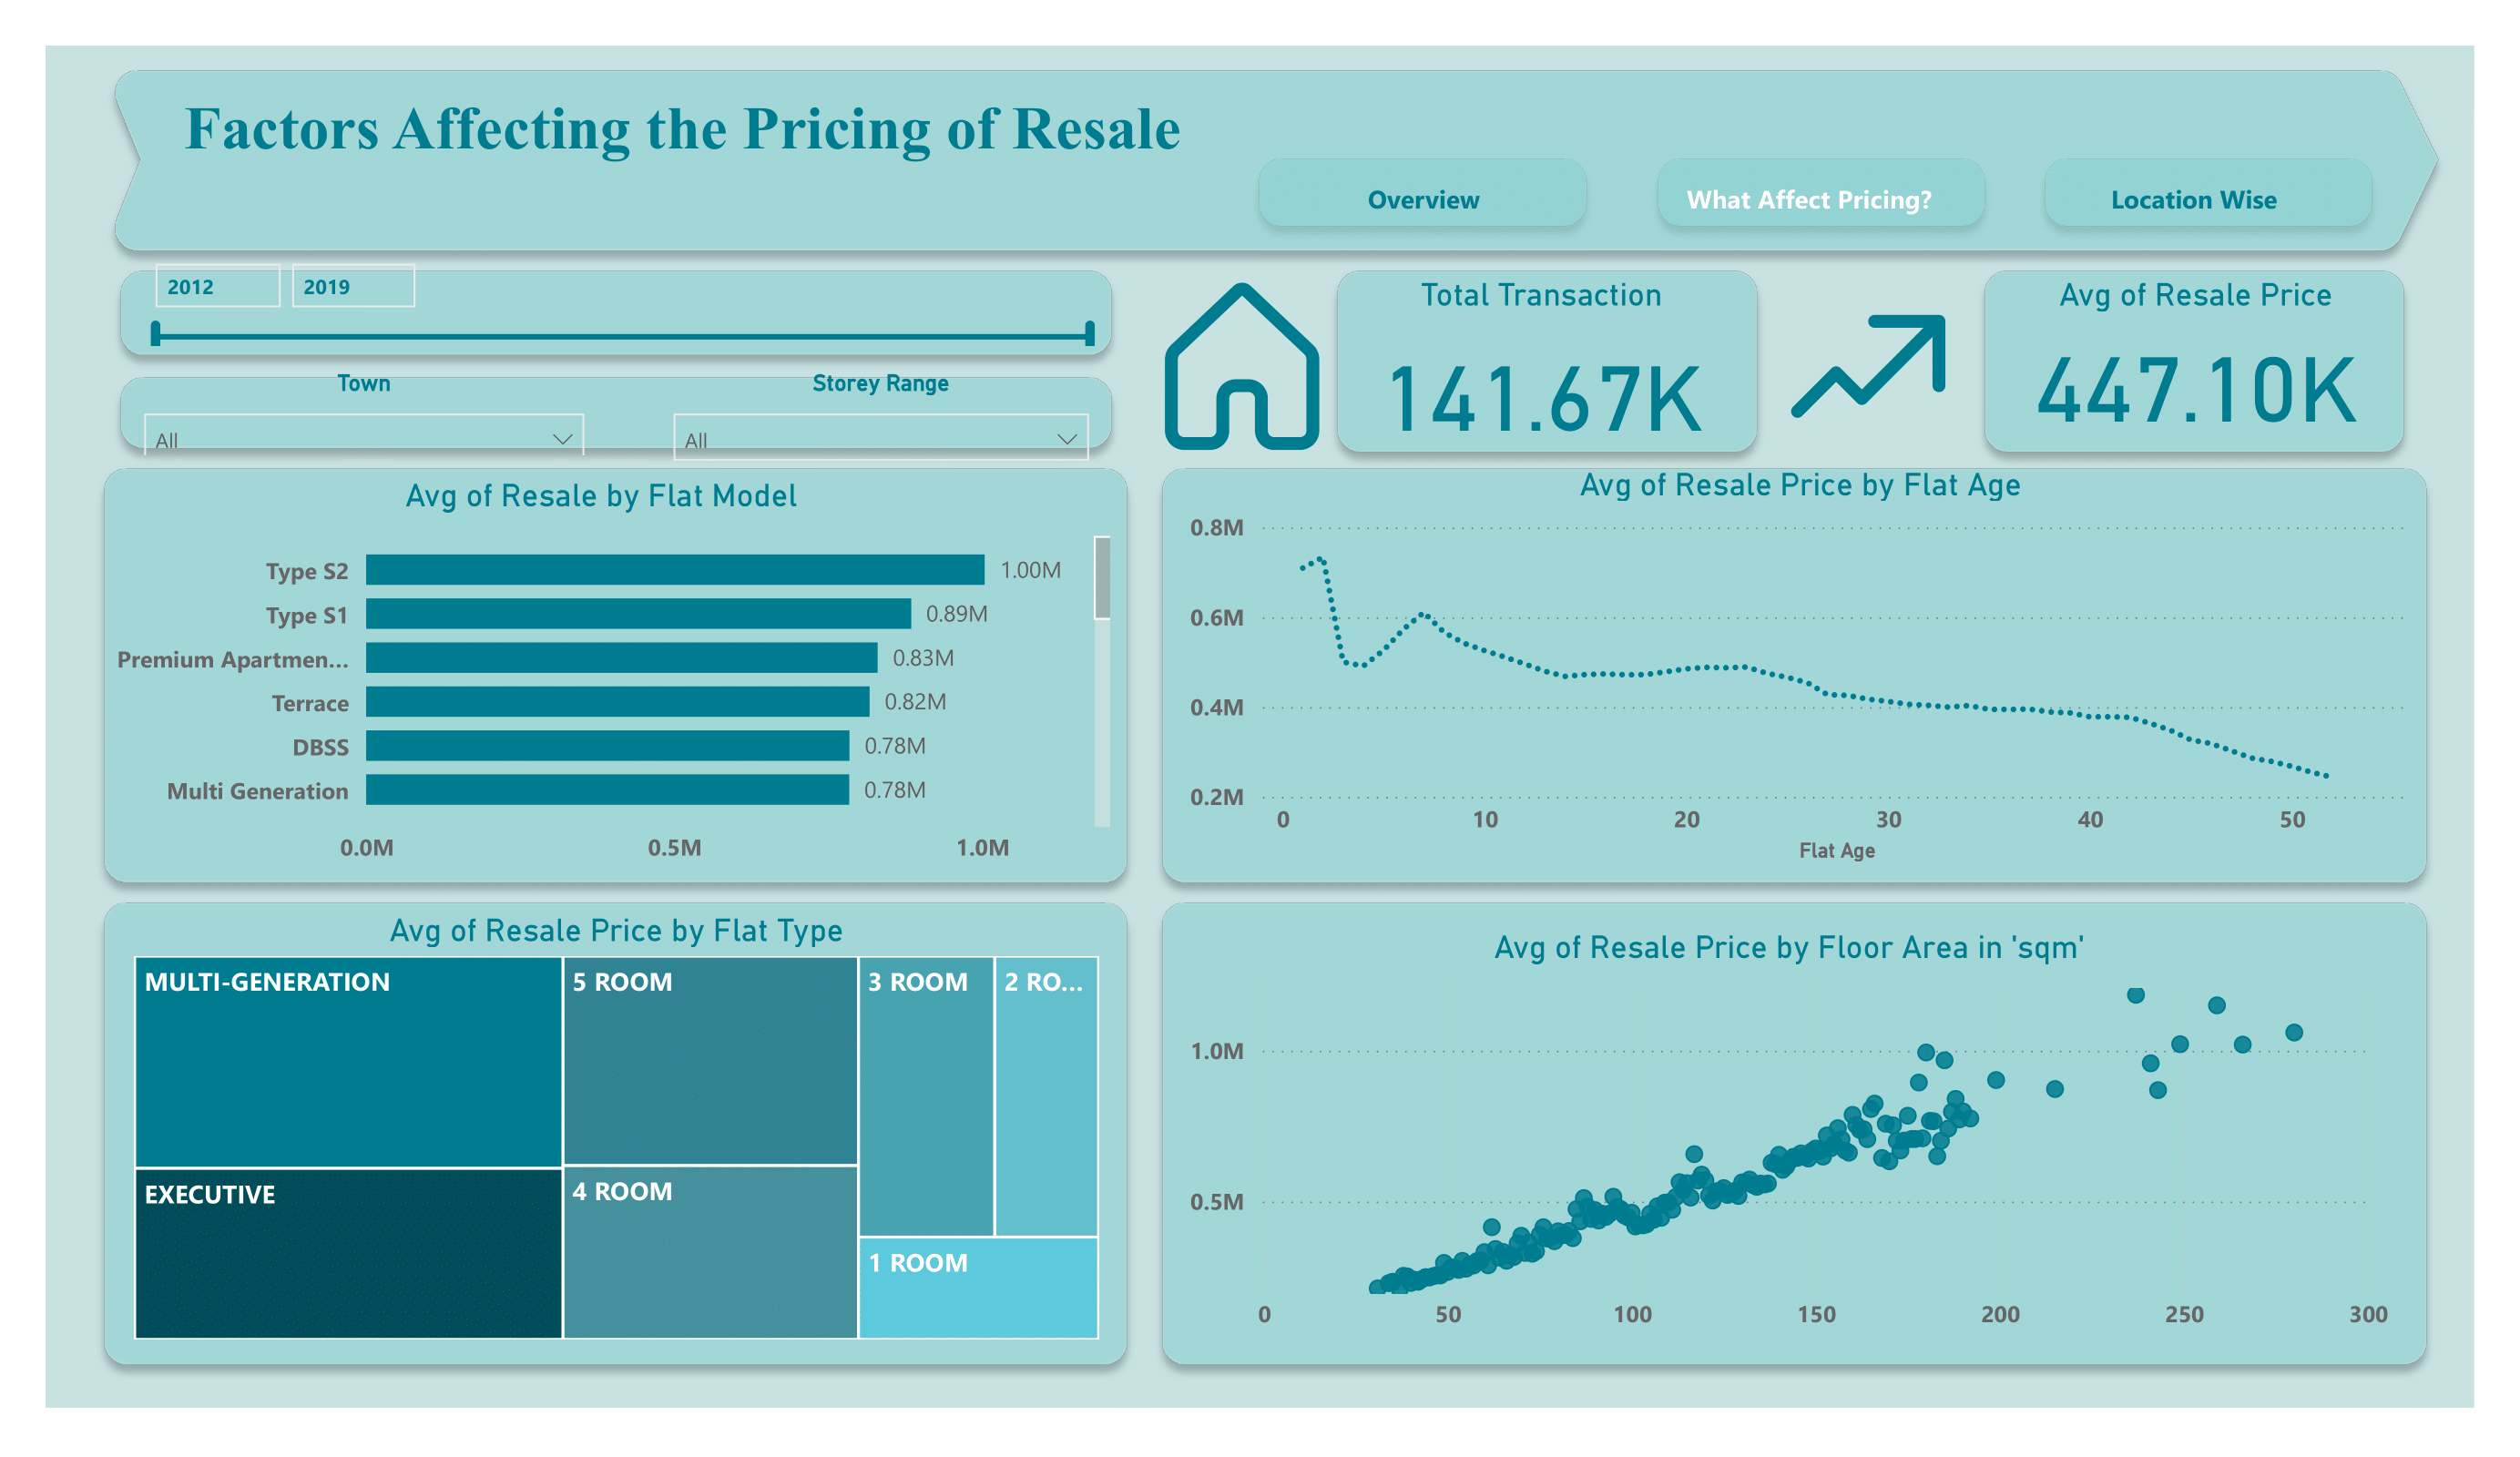

What the dashboard file says about the page in this screenshot:
{"tool":"powerbi","page":{"name":"What Effect Pricing?","canvas":[1280,720],"ordinal":1},"visuals":[{"type":"textbox","box":[68,20,618,85],"z":0},{"type":"scatterChart","title":"Avg of Resale Price by Floor Area in ''sqm''","fields":{"X":["hdb_resale_flats.floor_area_sqm"],"Y":["Avg(hdb_resale_flats.resale_price)"]},"box":[598,465,642,222],"z":1000},{"type":"clusteredBarChart","title":"Avg of Resale by Flat Model","fields":{"Category":["hdb_resale_flats.flat_model"],"Y":["Avg(hdb_resale_flats.resale_price)"]},"box":[20,227,546,214],"z":2000},{"type":"treemap","title":"Avg of Resale Price by Flat Type","fields":{"Group":["hdb_resale_flats.flat_type"],"Values":["Avg(hdb_resale_flats.resale_price)"]},"box":[42,456,518,231],"z":3000},{"type":"card","title":"Avg of Resale Price","fields":{"Values":["Avg(hdb_resale_flats.resale_price)"]},"box":[1027,121,213,90],"z":4000},{"type":"slicer","title":"Town","fields":{"Values":["hdb_resale_flats.town"]},"box":[41.8,171.2,251.9,44.7],"z":5000},{"type":"pageNavigator","box":[630,55,600,50],"z":6000},{"type":"card","title":"Total Transaction","fields":{"Values":["CountNonNull(hdb_resale_flats.resale_price)"]},"box":[658,121,261,100],"z":7000},{"type":"lineChart","title":"Avg of Resale Price by Flat Age","fields":{"Category":["hdb_resale_flats.flat age"],"Y":["Avg(hdb_resale_flats.resale_price)"]},"box":[598,221,654,214],"z":8000},{"type":"slicer","title":"Storey Range","fields":{"Values":["hdb_resale_flats.storey_range"]},"box":[321,171.2,239.3,49.6],"z":9000},{"type":"slicer","fields":{"Values":["hdb_resale_flats.month.Variation.Date Hierarchy.Year"]},"box":[44.7,105,521.3,52.5],"z":10000}]}

Visuals, with their boxes on the page's 1280x720 design canvas (x1, y1, x2, y2). These are canvas units, not pixel positions in the 2520x1457 screenshot, which may show the page scaled, cropped or inside an application window:
textbox: 68,20,686,105
"Avg of Resale Price by Floor Area in ''sqm''" scatterChart: 598,465,1240,687
"Avg of Resale by Flat Model" clusteredBarChart: 20,227,566,441
"Avg of Resale Price by Flat Type" treemap: 42,456,560,687
"Avg of Resale Price" card: 1027,121,1240,211
"Town" slicer: 42,171,294,216
pageNavigator: 630,55,1230,105
"Total Transaction" card: 658,121,919,221
"Avg of Resale Price by Flat Age" lineChart: 598,221,1252,435
"Storey Range" slicer: 321,171,560,221
slicer - hdb_resale_flats.month.Variation.Date Hierarchy.Year: 45,105,566,158
